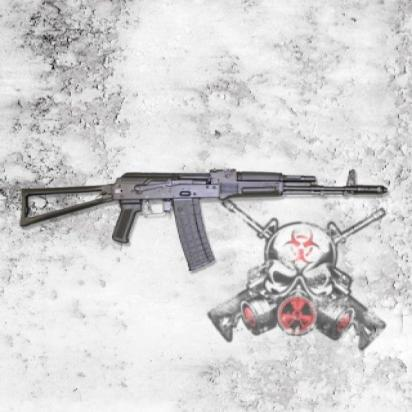Gun: (15, 163, 392, 275)
